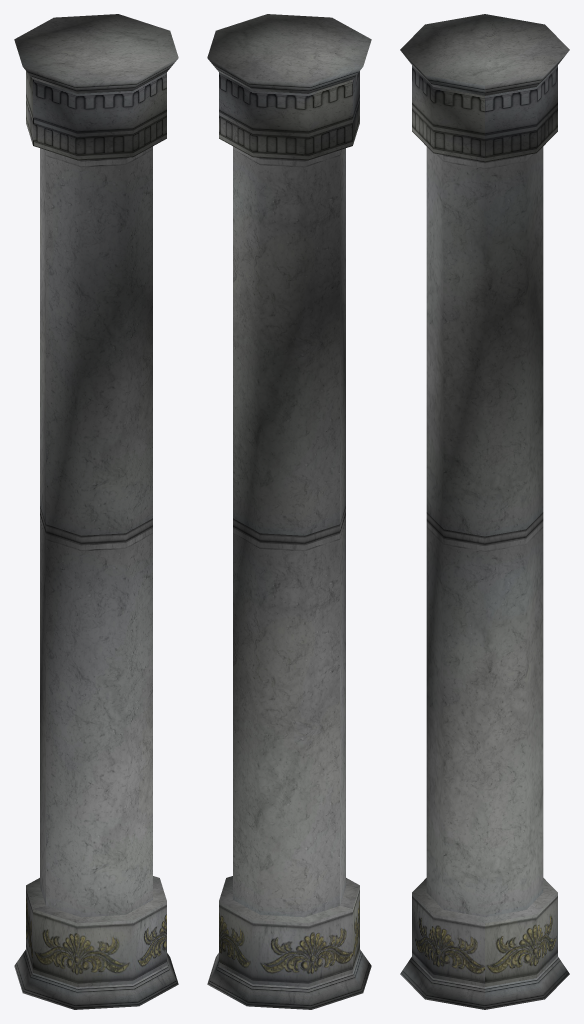
File: pillar-large-01.glb
The picture shows the model from 3 angles, left to right: view 1: azimuth 30°, elevation 25°; view 2: azimuth 150°, elevation 25°; view 3: azimuth 270°, elevation 25°; orthographic projection.
Parts seen in each view (by area): view 1: pillar_large_01; view 2: pillar_large_01; view 3: pillar_large_01.
Part boxes in pixels (left/top/right/bottom): pillar_large_01: left=14, top=14, right=178, bottom=1009; pillar_large_01: left=207, top=14, right=371, bottom=1009; pillar_large_01: left=400, top=14, right=569, bottom=1009.
Bounding box in the file's own units: 1 × 6 × 1.
1 material, 1 textured.
